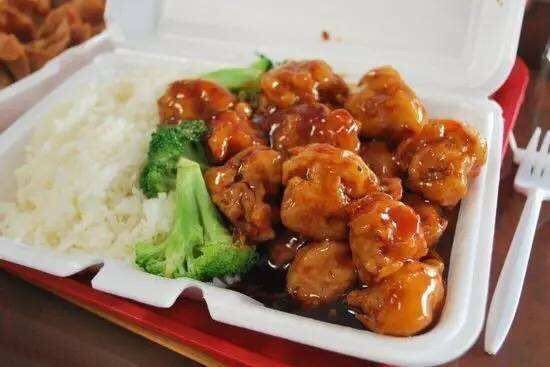burger: (483, 38, 550, 356)
curry: (133, 158, 259, 283), (139, 119, 210, 200)
sushi: (0, 1, 119, 133)
